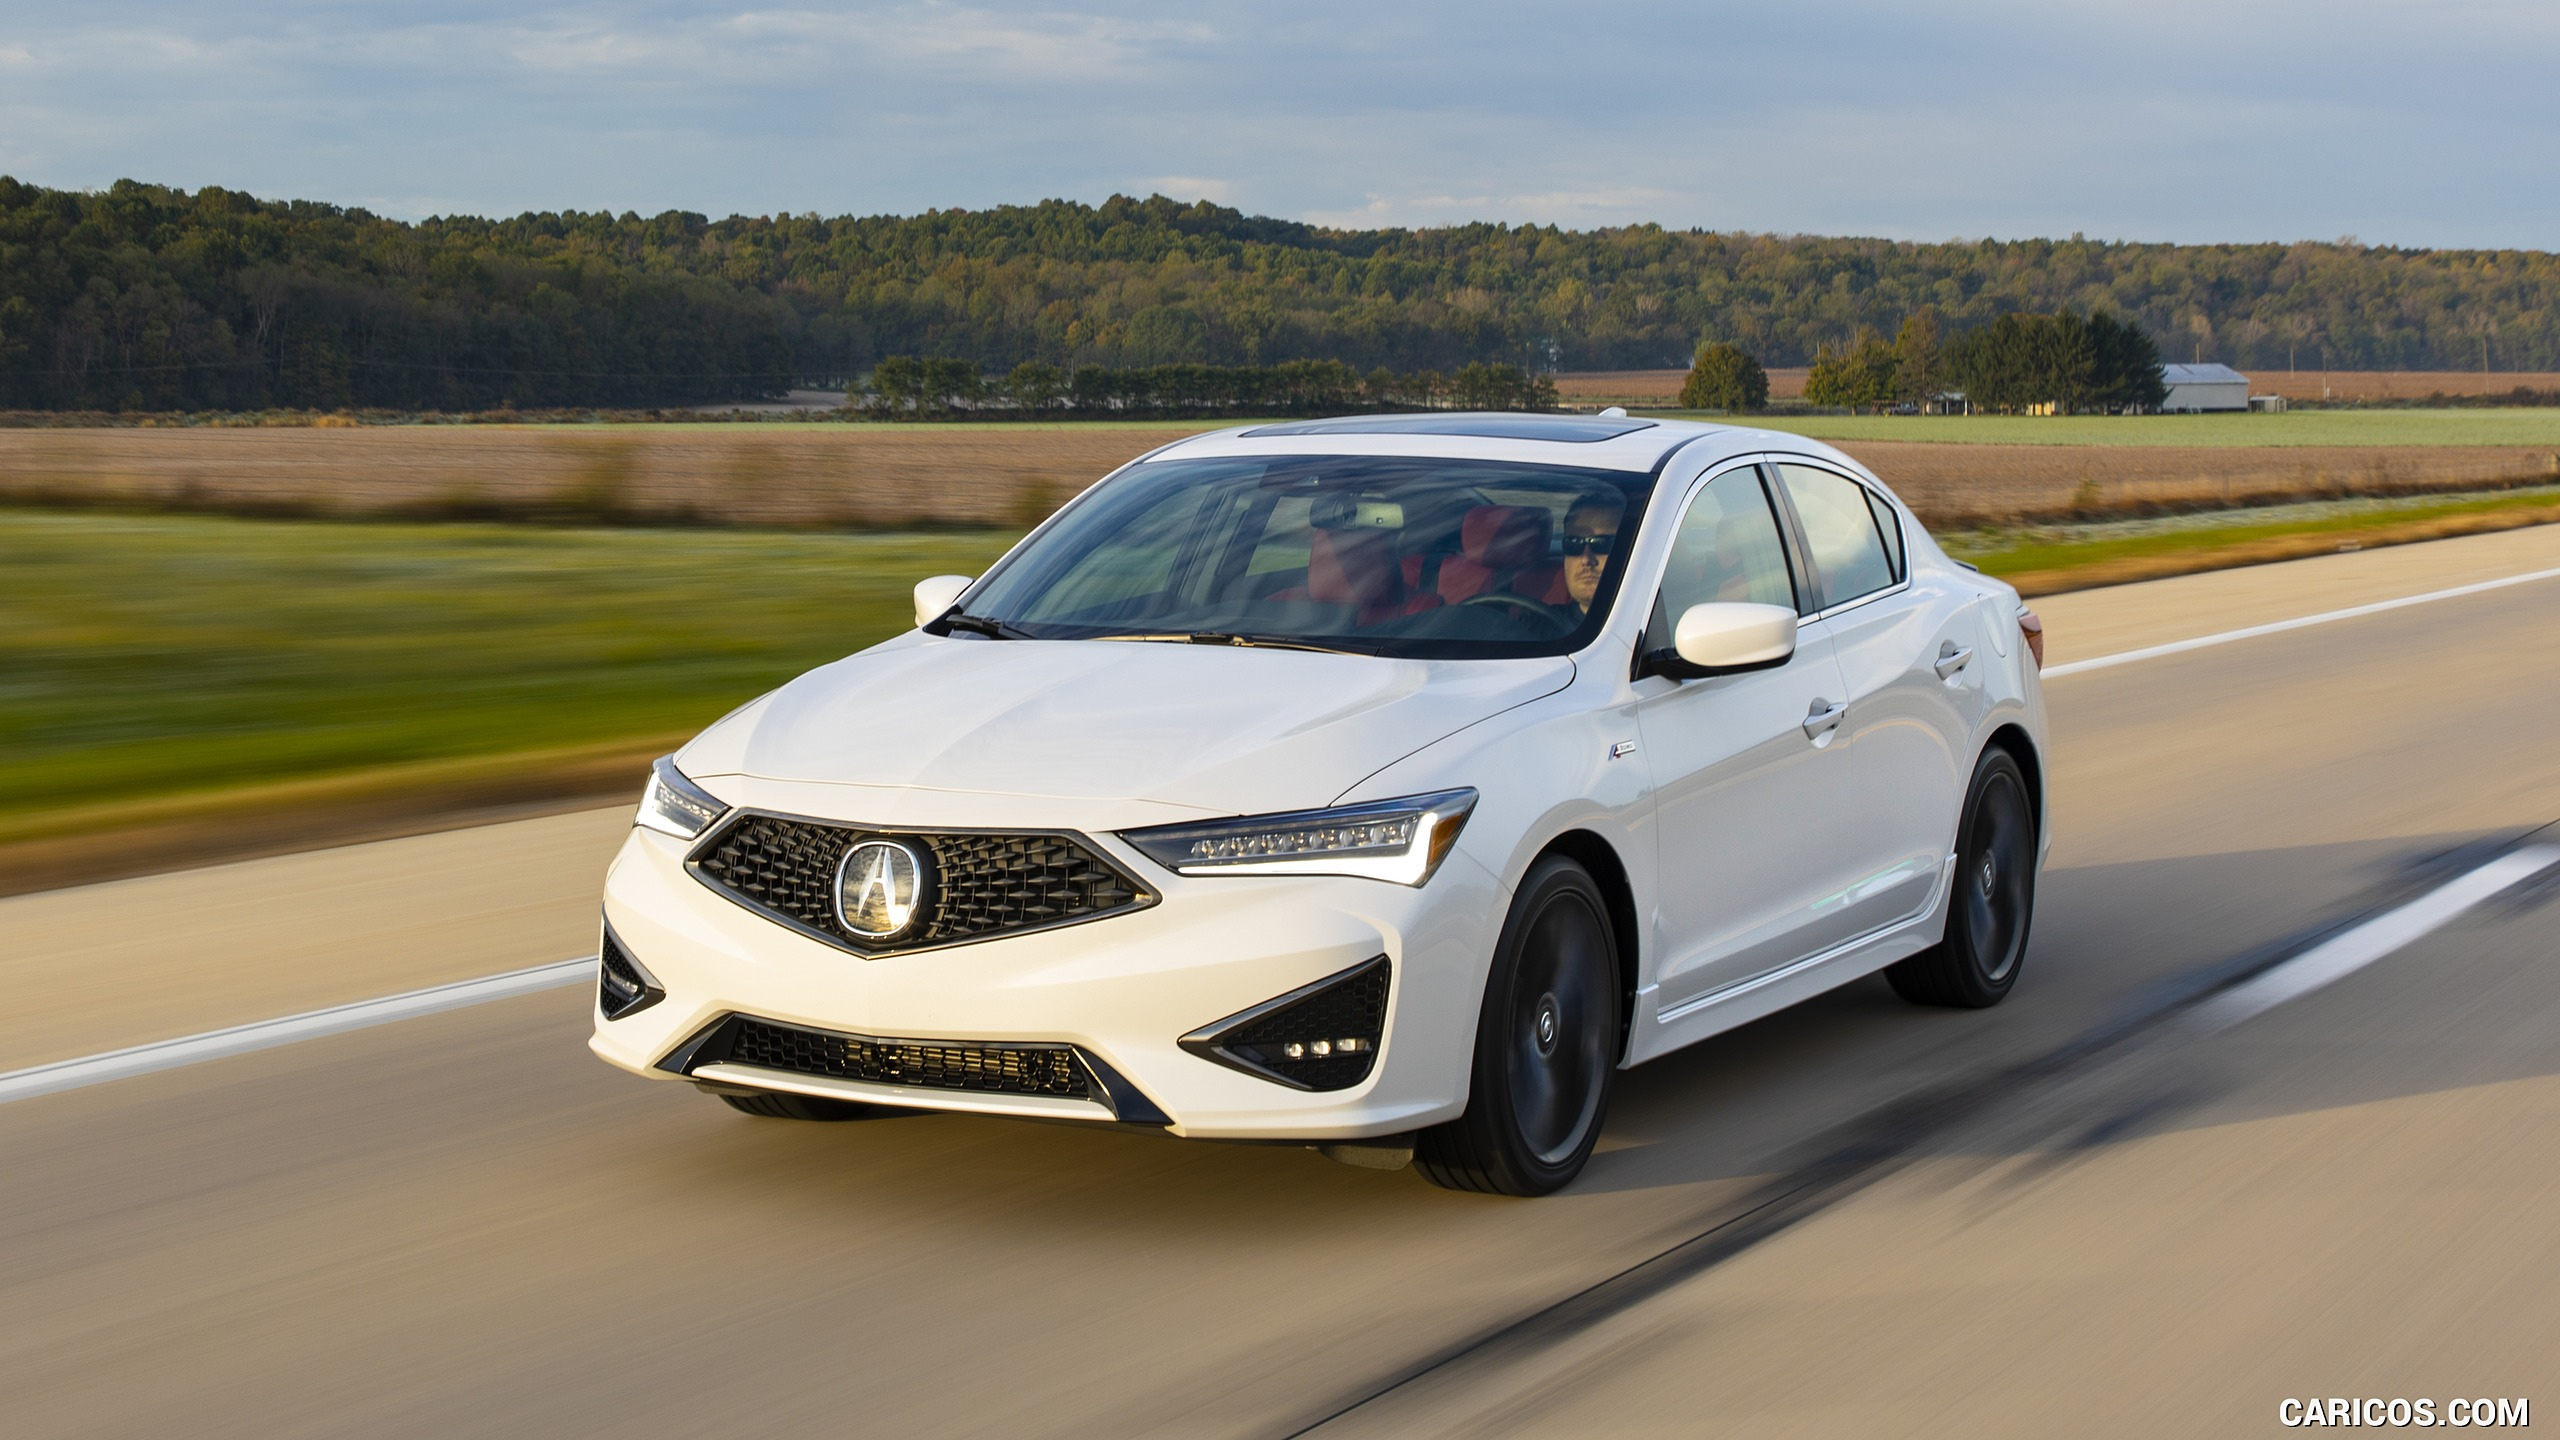Fog Lamp & Scope: (1245, 978, 1382, 1078)
Front: (577, 659, 1591, 1145)
Front Bumper: (563, 944, 1484, 1136)
Grill: (723, 805, 1109, 951)
Headlight: (1134, 789, 1480, 895)
